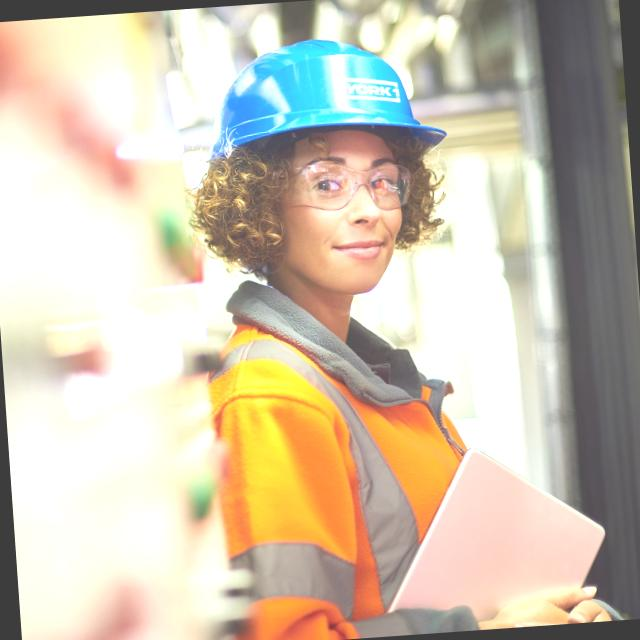goggles: (250, 143, 432, 220)
helmet: (182, 25, 470, 180)
person: (111, 2, 611, 640)
vest: (197, 299, 549, 640)
